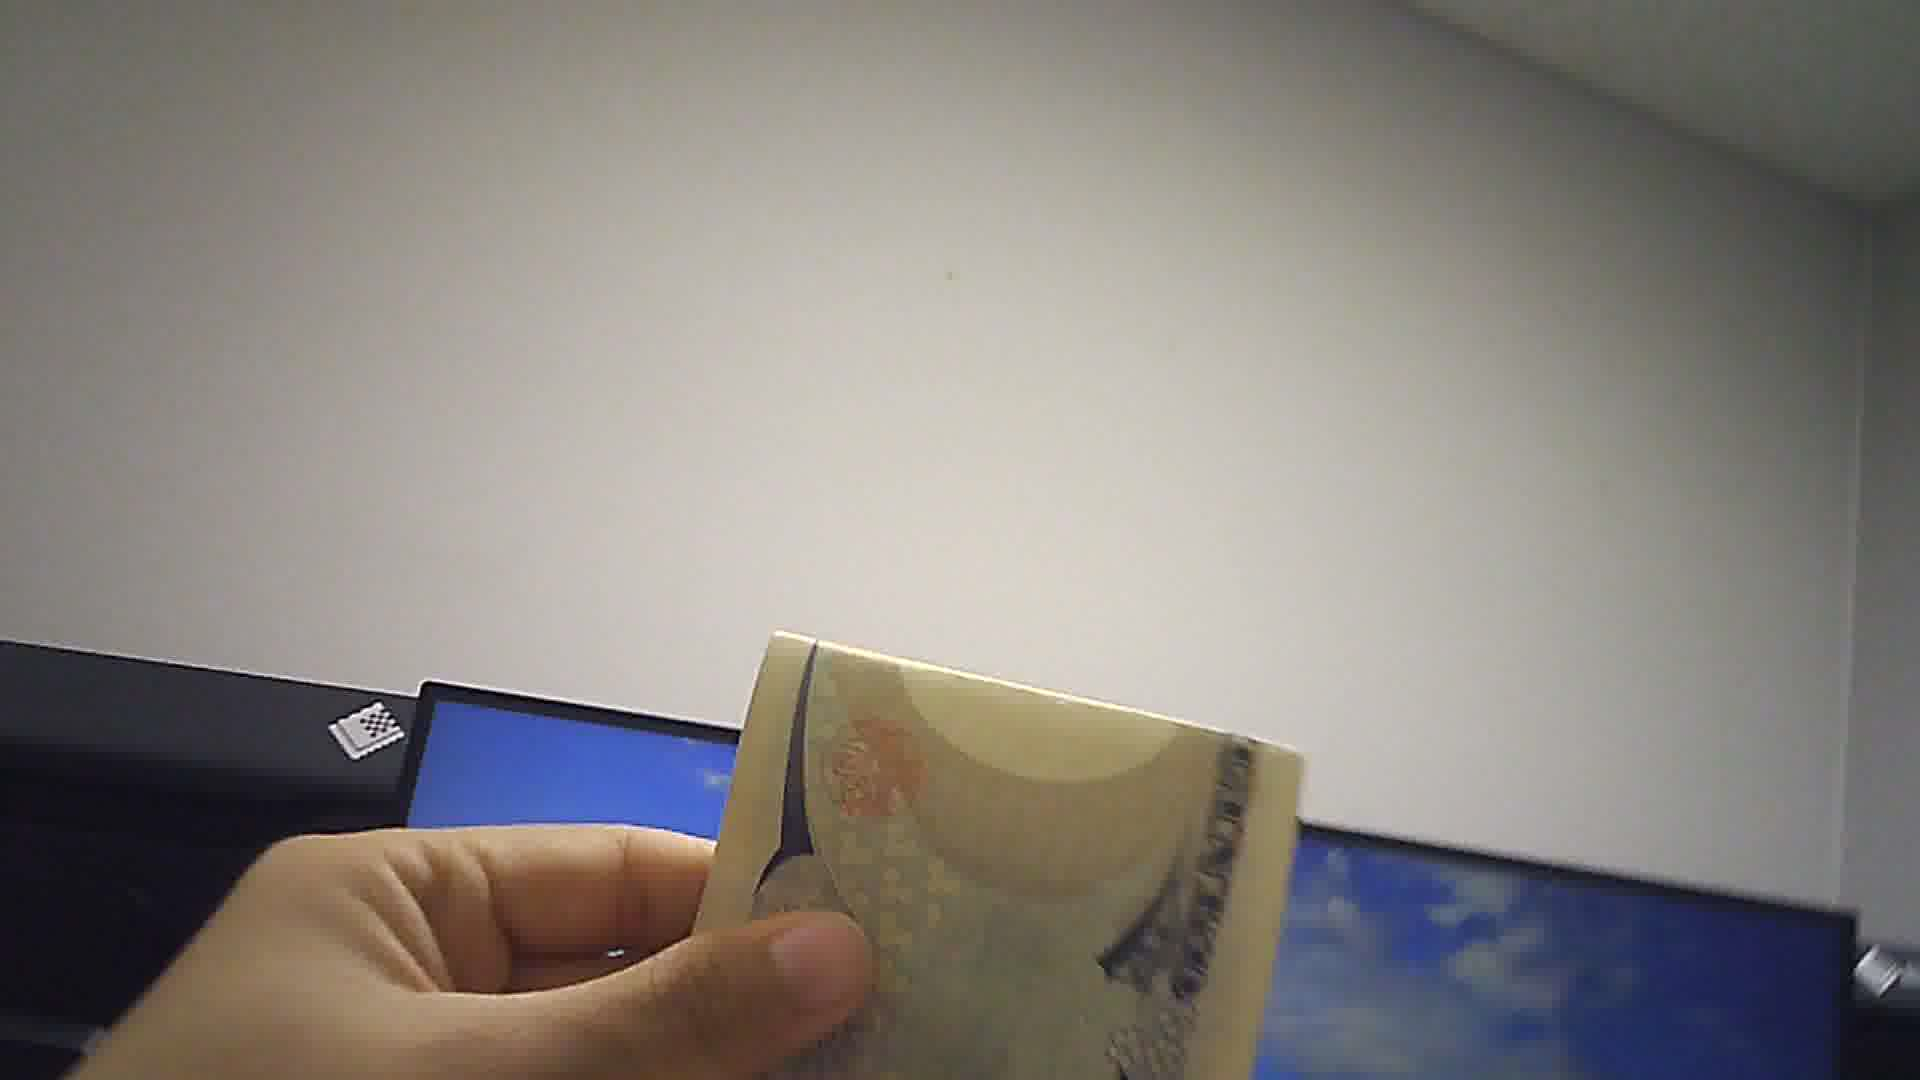1,000 Yen: (696, 621, 1312, 1079)
